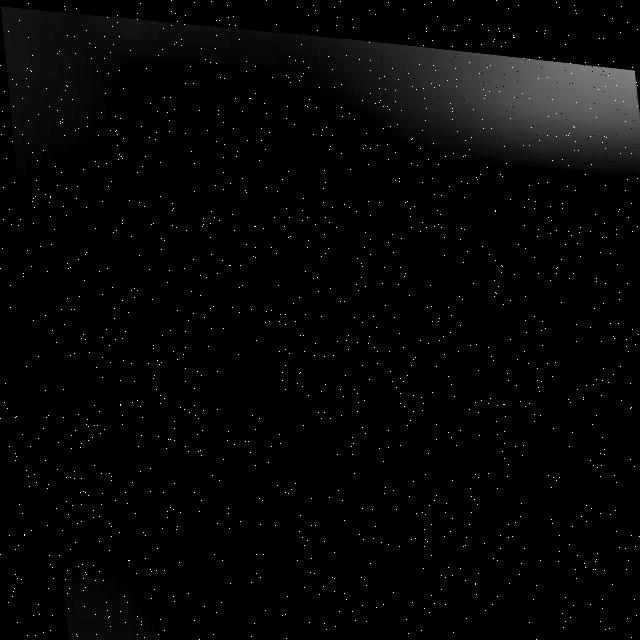person: (238, 22, 640, 140)
